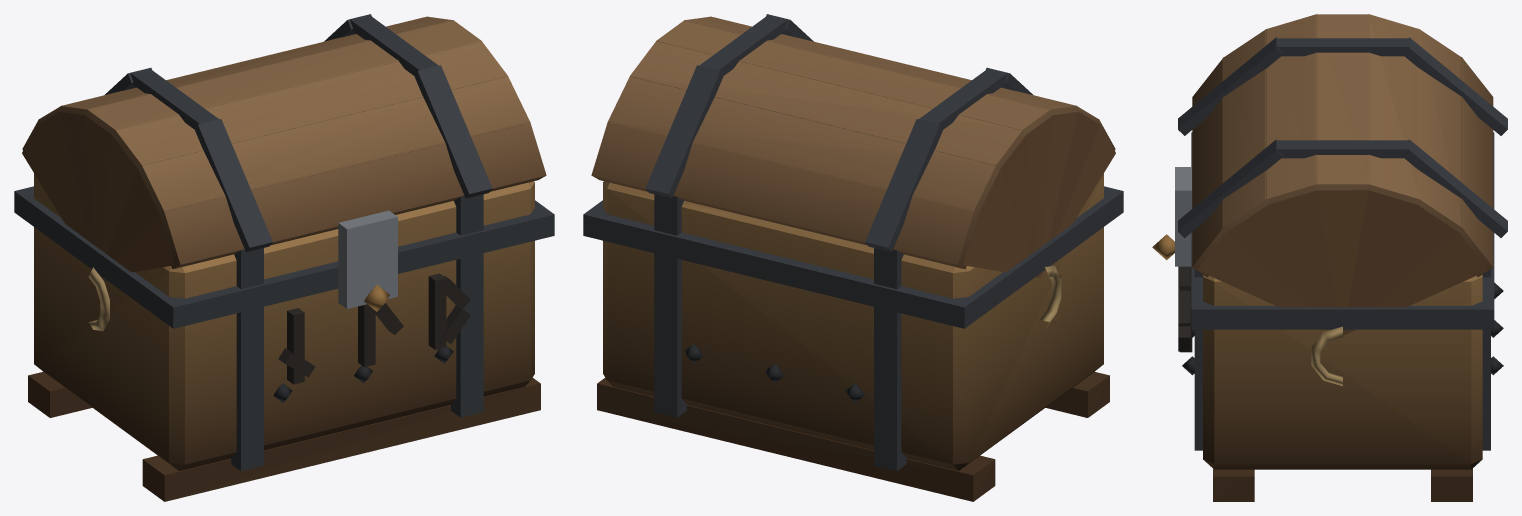
File: storage-crate.glb
The picture shows the model from 3 angles, left to right: view 1: azimuth 30°, elevation 25°; view 2: azimuth 150°, elevation 25°; view 3: azimuth 270°, elevation 25°; orthographic projection. The views are drawn at different scales.
Parts seen in each view (by area): view 1: storage_crate; view 2: storage_crate; view 3: storage_crate.
Part boxes in pixels (x1=…): storage_crate: x1=14, y1=14, x2=554, y2=501; storage_crate: x1=583, y1=14, x2=1123, y2=501; storage_crate: x1=1152, y1=14, x2=1507, y2=501.
Bounding box in the file's own units: 0.7711 × 0.633 × 0.6361.
